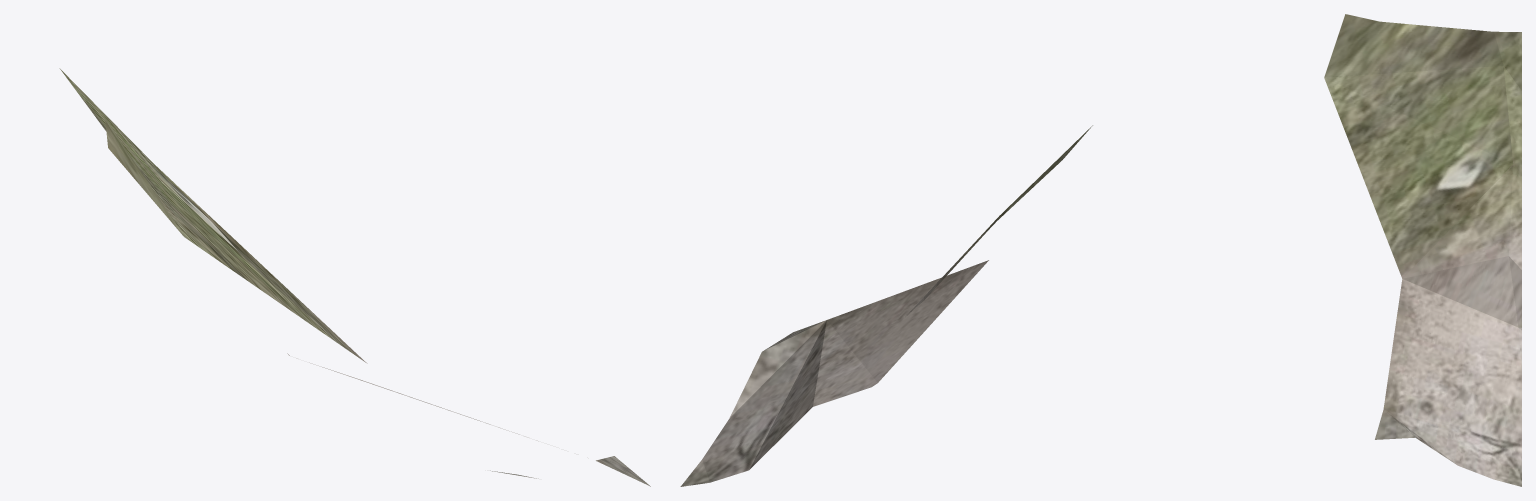
The picture shows the model from 3 angles, left to right: view 1: azimuth 30°, elevation 25°; view 2: azimuth 150°, elevation 25°; view 3: azimuth 270°, elevation 25°; orthographic projection. The views are drawn at different scales.
Size of the model in its own units: 5.74 by 5.61 by 3.14.
2 materials, 2 textured.
